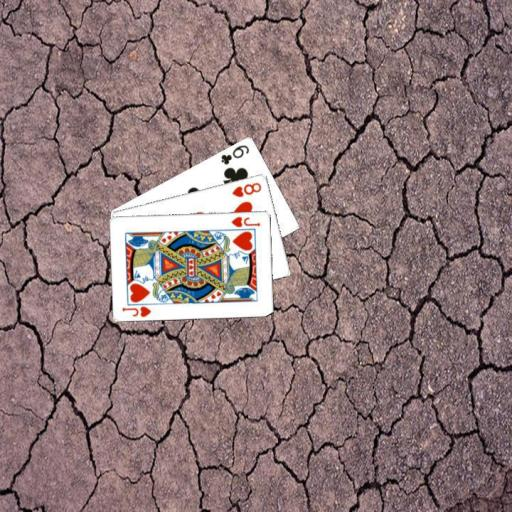6C: (218, 142, 251, 166)
8H: (229, 180, 263, 199)
JH: (228, 214, 262, 229), (119, 303, 153, 318)
